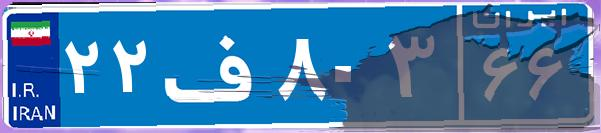0: (330, 28, 385, 110)
2: (57, 26, 110, 107), (110, 28, 158, 105)
3: (385, 28, 445, 110)
6: (475, 38, 525, 113), (525, 38, 570, 115)
8: (273, 28, 330, 110)
ف: (158, 15, 273, 115)
